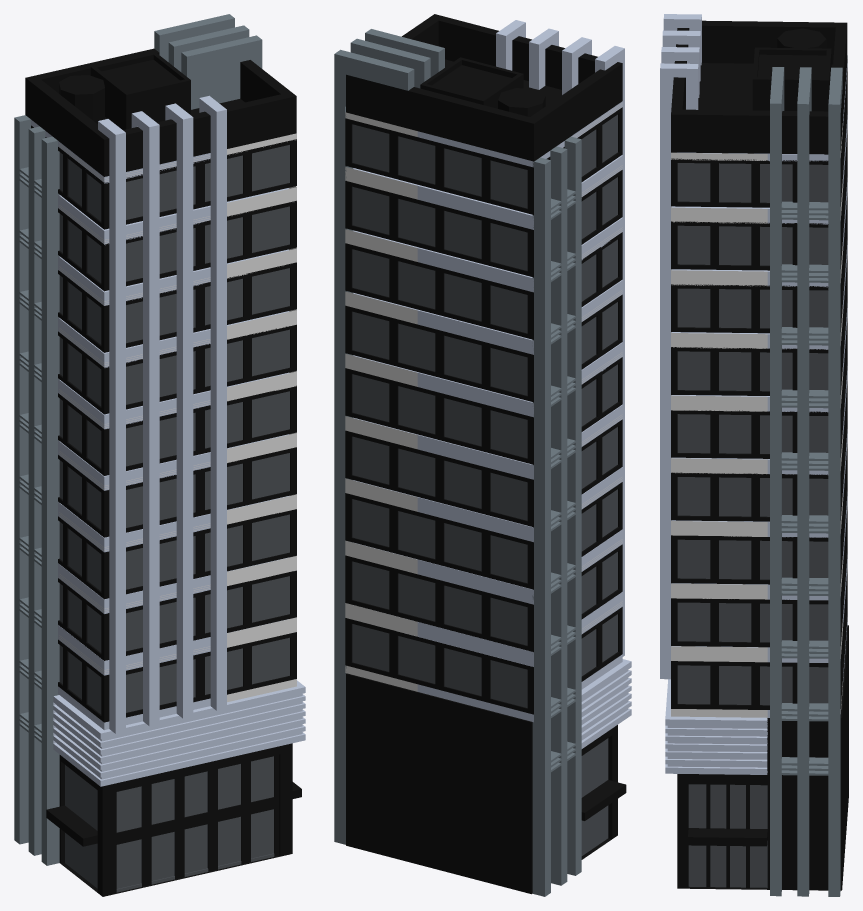
Rendered from big1.glb.
3 views of the same model, side by side, from view 1: azimuth 30°, elevation 25°; view 2: azimuth 150°, elevation 25°; view 3: azimuth 270°, elevation 25° (orthographic).
Parts seen in each view (by area): view 1: Modern Office.003; view 2: Modern Office.003; view 3: Modern Office.003.
Boxes of the visible parts, box(x1,y1,x2,y2) form: Modern Office.003: box(14, 14, 305, 896); Modern Office.003: box(334, 14, 631, 896); Modern Office.003: box(660, 14, 848, 896).
Size of the model in its own units: 12.8 by 43.79 by 9.45.
